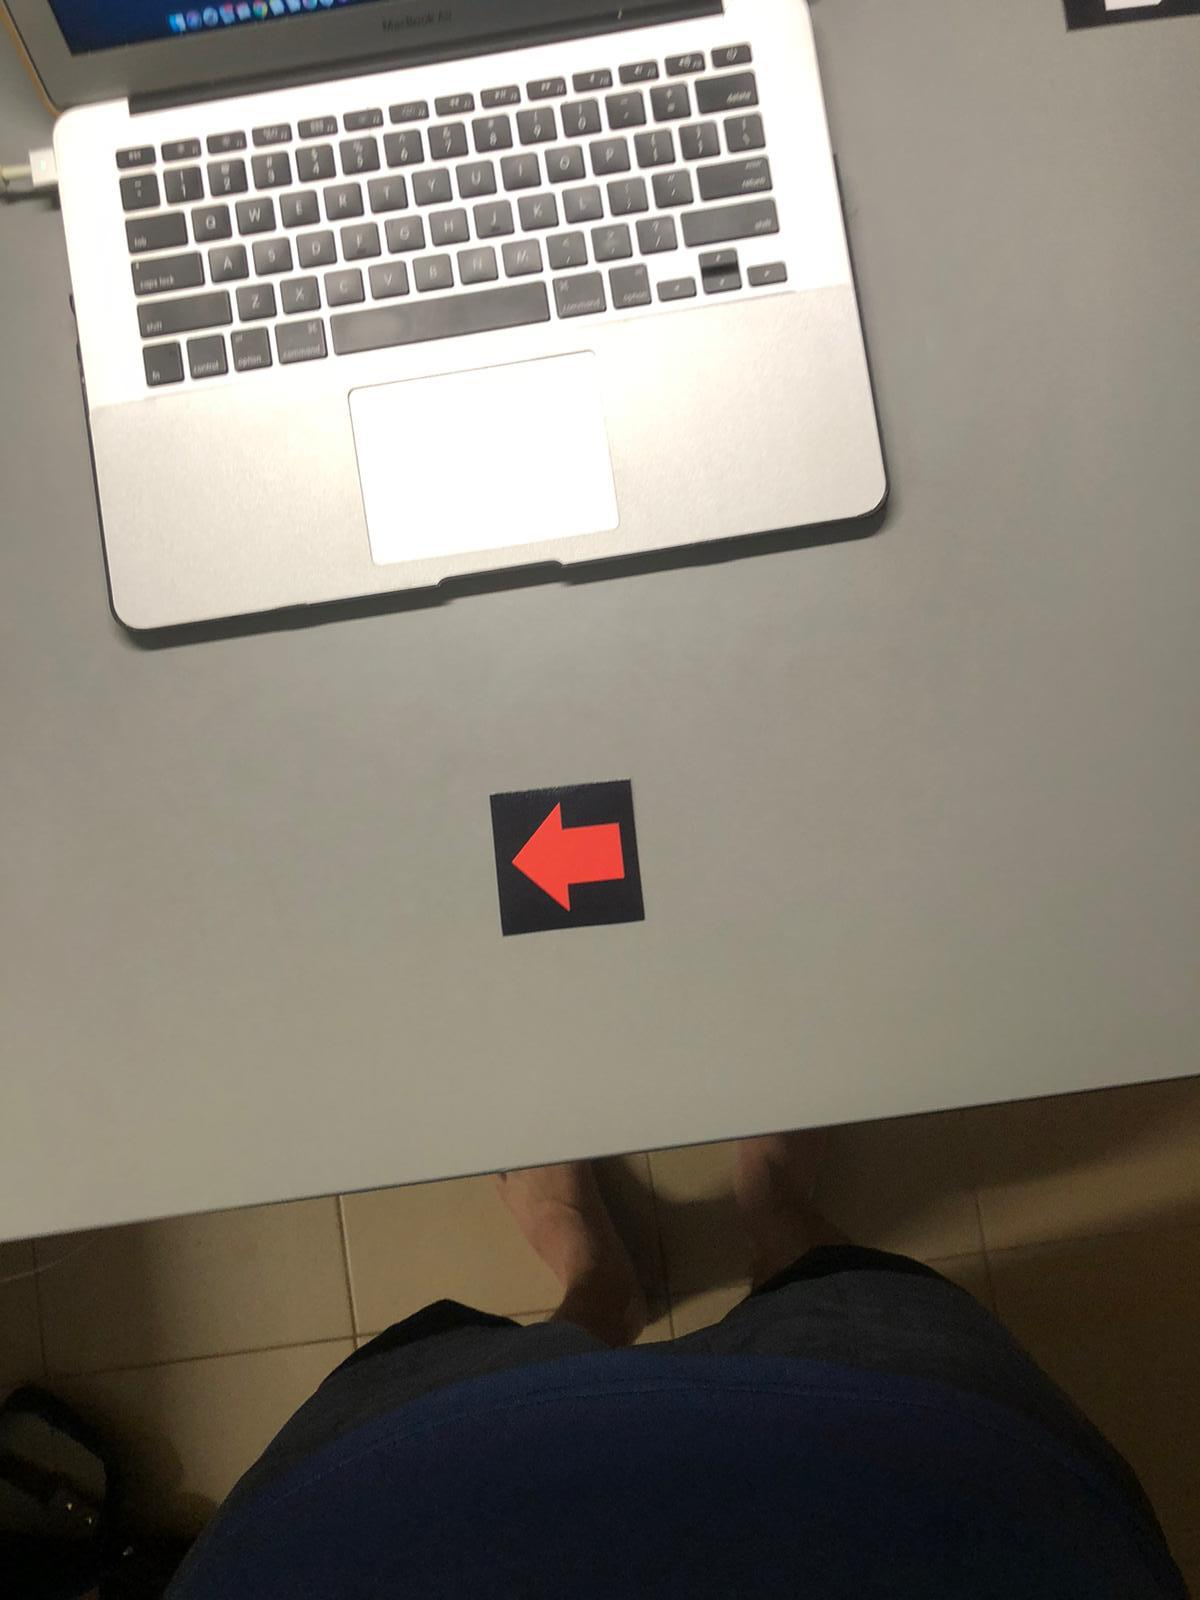Left Arrow: (484, 781, 645, 940)
